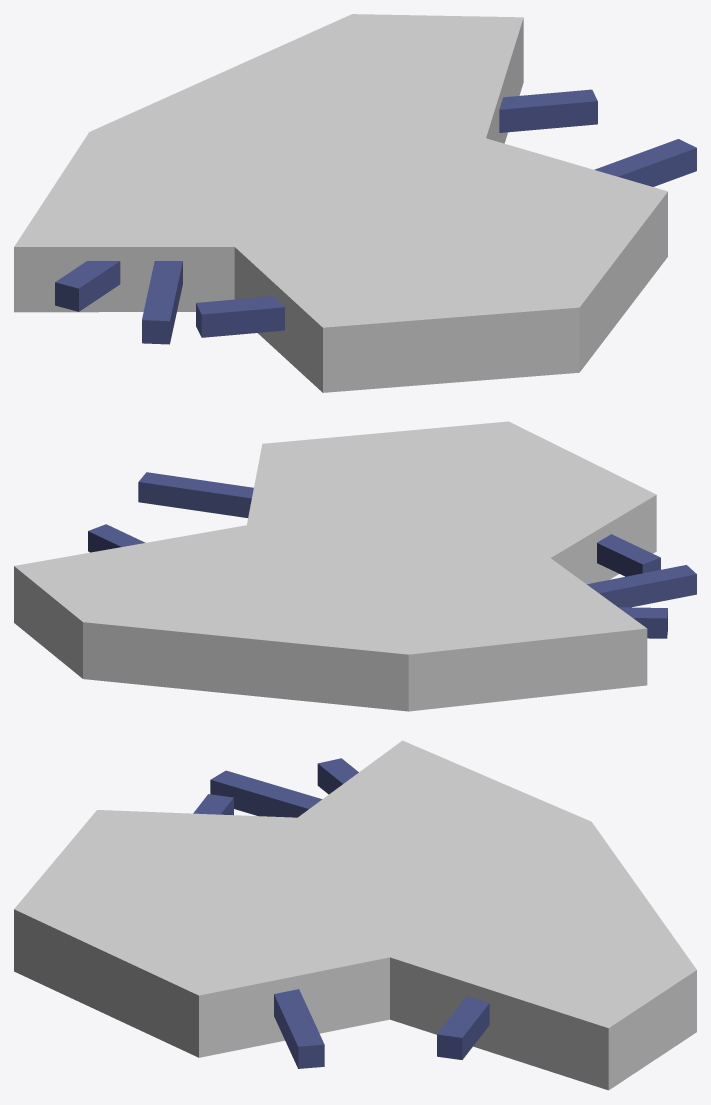
The model's file is ConcreteDebris2.FBX.
3 views of the same model, one above another, from view 1: azimuth 30°, elevation 25°; view 2: azimuth 150°, elevation 25°; view 3: azimuth 270°, elevation 25° (orthographic). The views are drawn at different scales.
Parts seen in each view (by area): view 1: ConcreteDebris2; view 2: ConcreteDebris2; view 3: ConcreteDebris2.
Boxes of the visible parts, x1,y1,x2,y2 form: ConcreteDebris2: [14, 14, 696, 392]; ConcreteDebris2: [14, 421, 696, 711]; ConcreteDebris2: [14, 740, 696, 1090].
Bounding box in the file's own units: 40.56 × 4.02 × 39.98.
